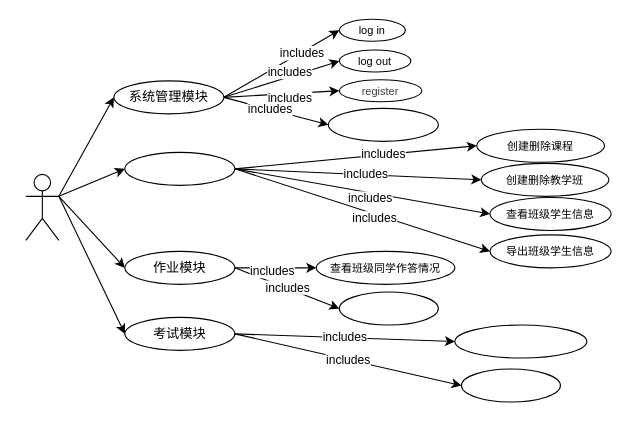
Image size: 630x421. Some labels were removed from this diagram. The centre of each missing label's shape, as x and y in pixels:
"Teacher" goes at point 42,206.
"修改自己账户密码" goes at point 382,124.
"创建考试" goes at point 510,385.
"发布作业" goes at point 388,308.
"查看学生考试情况" goes at point 520,341.
"课程管理模块" goes at point 179,168.
